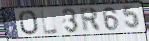3: (61, 7, 81, 34)
5: (121, 4, 142, 31)
6: (101, 6, 120, 32)
L: (40, 9, 60, 36)
O: (18, 9, 40, 36)
R: (78, 7, 103, 34)
